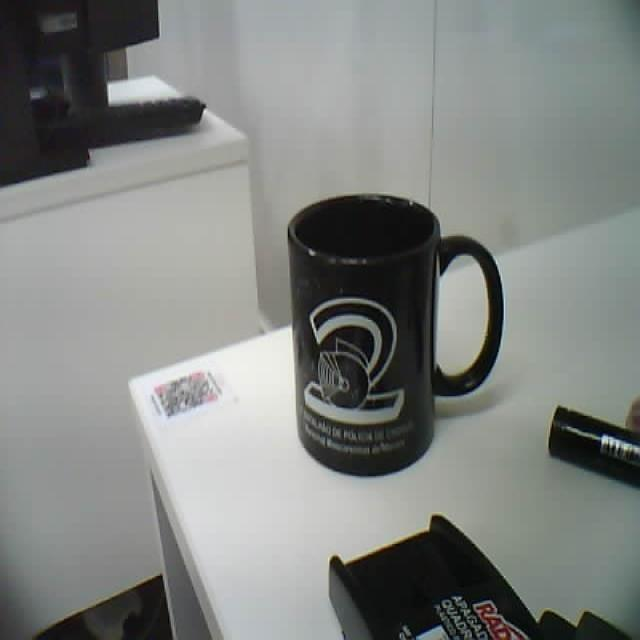caneca: (288, 195, 503, 475)
